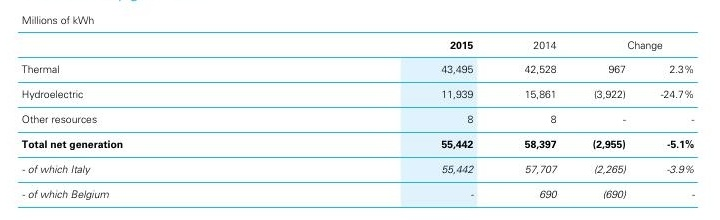table: (0, 0, 720, 220)
